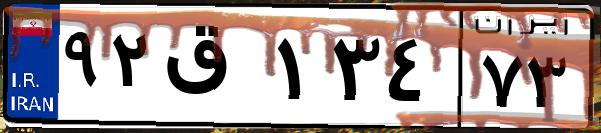1: (270, 28, 330, 110)
2: (110, 28, 158, 98)
3: (330, 28, 385, 110), (525, 38, 570, 115)
4: (385, 28, 445, 110)
7: (475, 38, 525, 113)
9: (57, 26, 110, 100)
ق: (158, 20, 270, 120)
